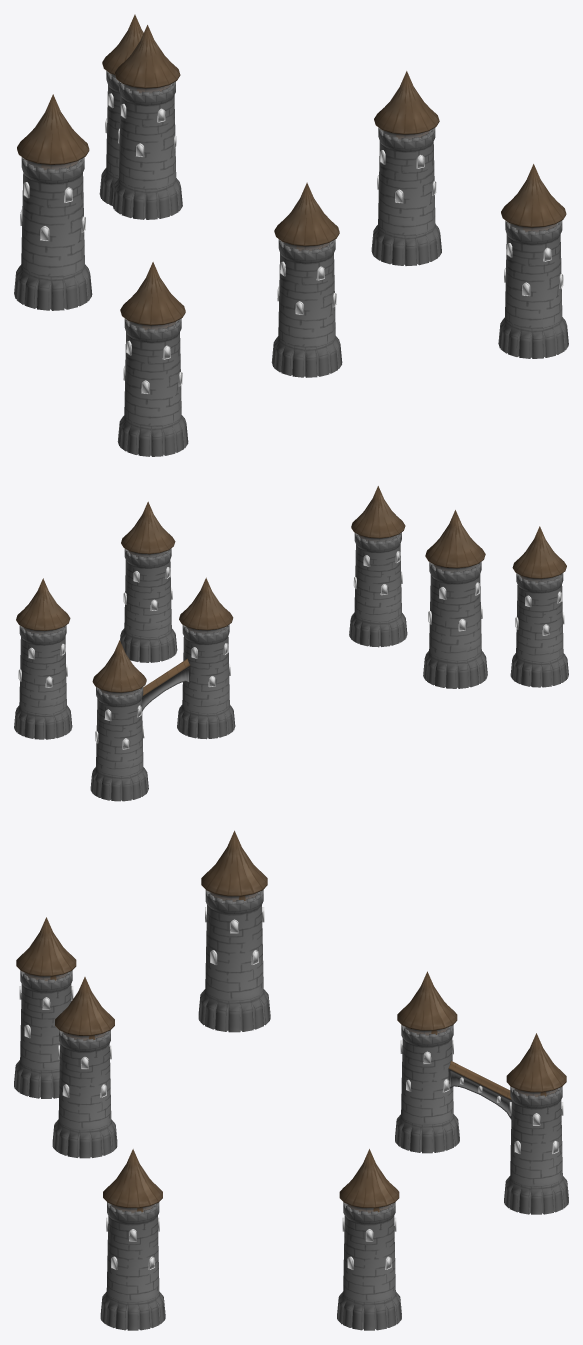
File: towers.fbx
The picture shows the model from 3 angles, top to bottom: view 1: azimuth 30°, elevation 25°; view 2: azimuth 150°, elevation 25°; view 3: azimuth 270°, elevation 25°; orthographic projection. The views are drawn at different scales.
Parts seen in each view (by area): view 1: tower.005, tower.001, tower.008, tower.003, tower.007, tower.006, tower top.006, tower top.004, tower top.003, tower top.005, tower top, tower top.002 (+2 smaller); view 2: tower.005, tower.001, tower.007, tower.002, tower.008, tower.003, tower.006, tower top.006, tower top.002, tower top, tower top.001, tower top.003 (+3 smaller); view 3: tower.005, tower.002, tower.001, tower.008, tower.003, tower.006, tower.007, tower top.006, tower top.001, tower top.005, tower top.002, tower top.003 (+3 smaller).
Part boxes in pixels (box(x1,y1,x2,y2)): tower.005: box(14, 173, 92, 310); tower.001: box(371, 141, 441, 265); tower.008: box(271, 253, 342, 377); tower.003: box(498, 234, 568, 358); tower.007: box(117, 332, 188, 456); tower.006: box(112, 95, 182, 219); tower top.006: box(17, 94, 89, 183); tower top.004: box(274, 182, 339, 263); tower top.003: box(501, 164, 566, 244); tower top.005: box(120, 262, 185, 342); tower top: box(374, 71, 439, 151); tower top.002: box(115, 25, 180, 105); tower.005: box(423, 574, 487, 688); tower.001: box(14, 636, 72, 739); tower.007: box(510, 585, 568, 687); tower.002: box(90, 698, 148, 801); tower.008: box(349, 544, 407, 647); tower.003: box(120, 560, 177, 662); tower.006: box(177, 636, 235, 739); tower top.006: box(425, 510, 485, 583); tower top.002: box(179, 577, 233, 644); tower top: box(16, 578, 70, 645); tower top.001: box(92, 640, 146, 706); tower top.003: box(121, 501, 175, 568); tower.005: box(198, 905, 270, 1032); tower.002: box(504, 1100, 568, 1214); tower.001: box(337, 1216, 401, 1330); tower.008: box(52, 1044, 117, 1158); tower.003: box(100, 1216, 165, 1330); tower.006: box(395, 1038, 459, 1153); tower.007: box(14, 984, 71, 1098); tower top.006: box(201, 830, 267, 913); tower top.001: box(506, 1033, 566, 1108); tower top.005: box(16, 917, 76, 992); tower top.002: box(397, 971, 457, 1046); tower top.003: box(103, 1149, 162, 1223).
Bounding box in the file's own units: 17429 × 10691 × 18363.
